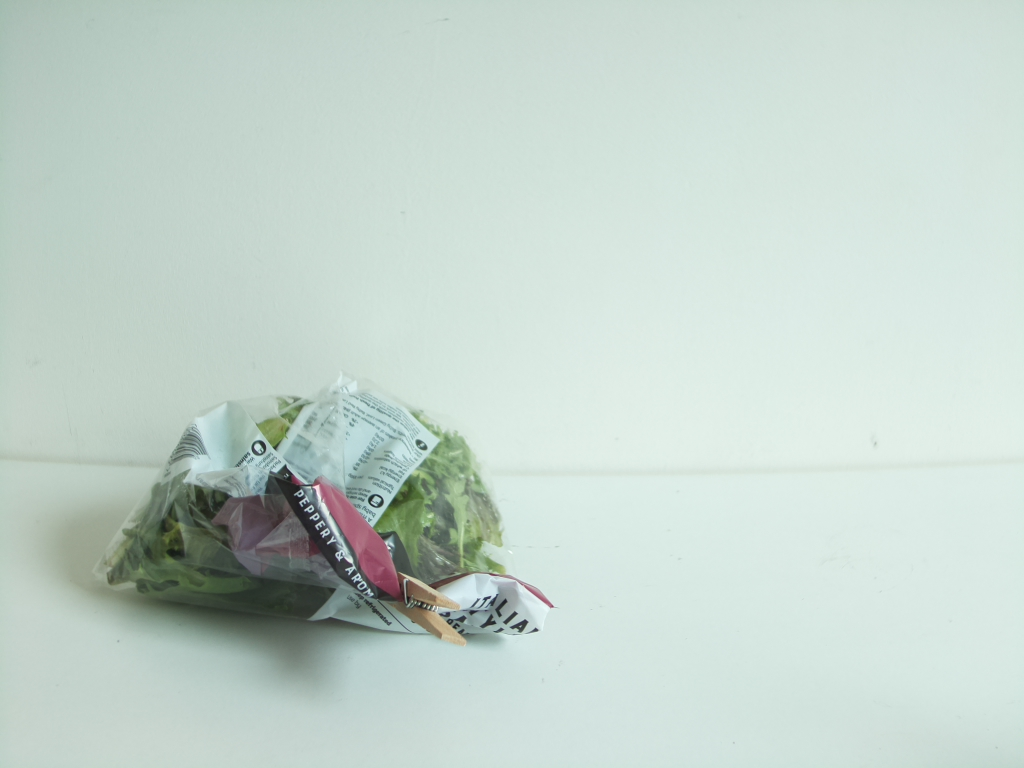salad: (103, 373, 559, 649)
